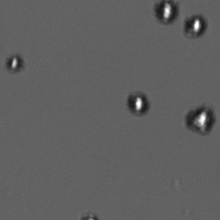Living Cell: (183, 101, 215, 136), (183, 12, 209, 40), (127, 89, 150, 117), (153, 1, 179, 25), (6, 54, 24, 72)
